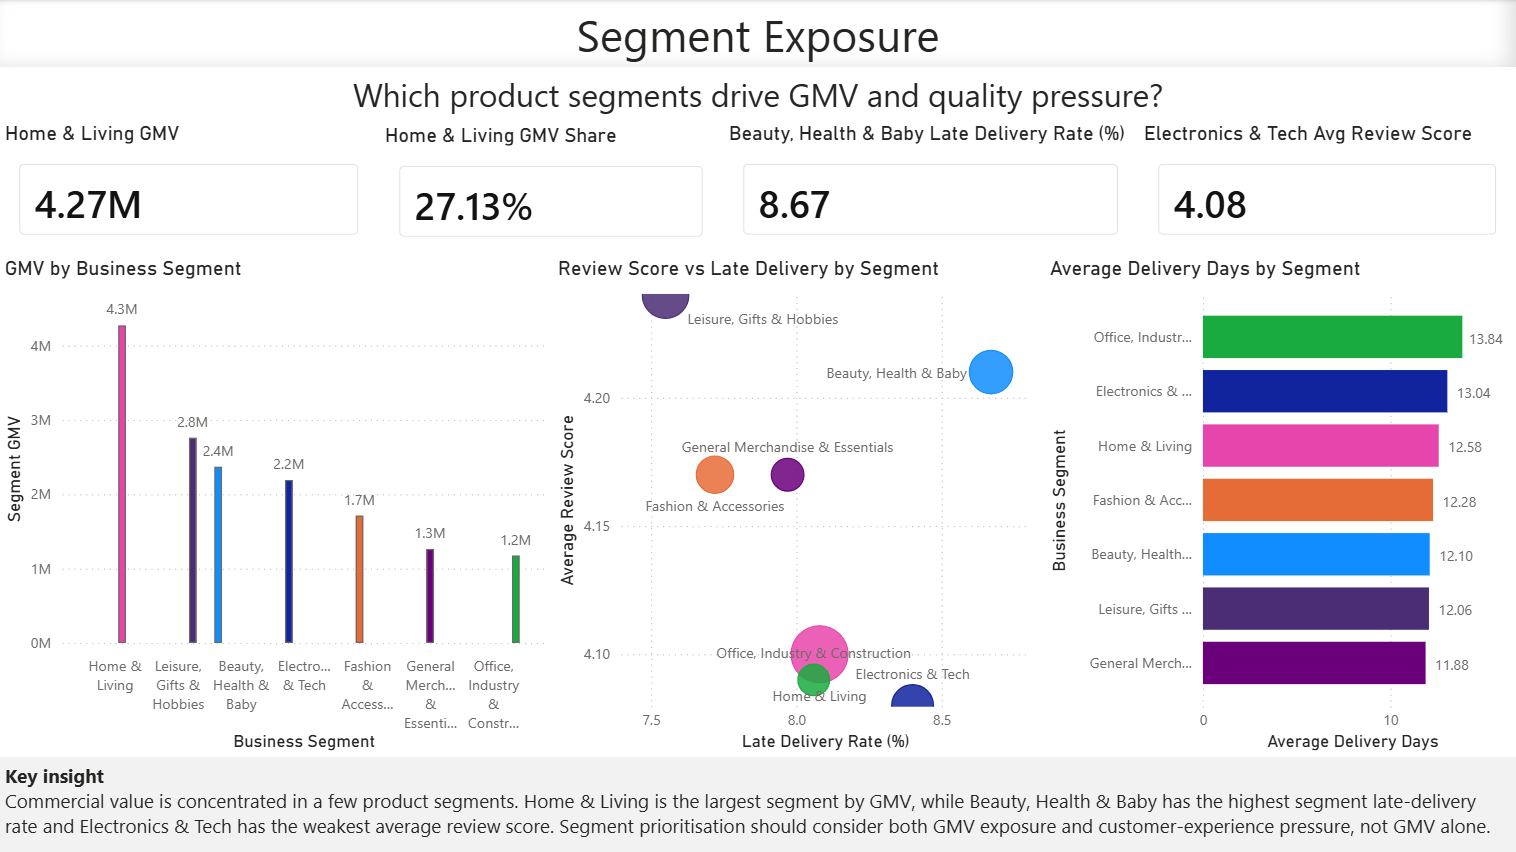

The page's visual inventory and layout, read from the dashboard file:
{"tool":"powerbi","page":{"name":"Segment Exposure","canvas":[1280,720],"ordinal":3},"visuals":[{"type":"textbox","box":[0,0,1280,65.2],"z":0},{"type":"textbox","box":[0,0,1280,65.1],"z":1000},{"type":"textbox","box":[0,57.4,1280,45.7],"z":2000},{"type":"cardVisual","title":"Home & Living GMV","fields":{"Data":["Sum(GMV by Segment.segment_gmv)"]},"box":[0,102.8,320.5,114],"z":3000},{"type":"cardVisual","title":"Home & Living GMV Share","fields":{"Data":["Sum(GMV by Segment.segment_gmv_share)"]},"box":[320.5,104.2,290.5,113.2],"z":4000},{"type":"cardVisual","title":"Beauty, Health & Baby Late Delivery Rate (%)","fields":{"Data":["Sum(Segment Review Delivery.late_delivery_rate_pct)"]},"box":[610.5,102.8,350,114],"z":5000},{"type":"cardVisual","title":"Electronics & Tech Avg Review Score","fields":{"Data":["Sum(Segment Review Delivery.avg_review_score)"]},"box":[960.5,102.8,319.5,114],"z":6000},{"type":"clusteredColumnChart","title":"GMV by Business Segment","fields":{"Category":["GMV by Segment.business_segment"],"Y":["Sum(GMV by Segment.segment_gmv)"],"Series":["Segment Review Delivery.business_segment"]},"box":[0,216.7,466,422.3],"z":7000},{"type":"textbox","box":[0,639,1280,81.1],"z":8000},{"type":"scatterChart","title":"Review Score vs Late Delivery by Segment","fields":{"X":["Sum(Segment Review Delivery.late_delivery_rate_pct)"],"Y":["Sum(Segment Review Delivery.avg_review_score)"],"Size":["Sum(Segment Review Delivery.segment_gmv)"],"Series":["Segment Review Delivery.business_segment"]},"box":[466,217,415,422],"z":9000},{"type":"barChart","title":"Average Delivery Days by Segment","fields":{"Category":["Segment Review Delivery.business_segment"],"Y":["Sum(Segment Review Delivery.avg_delivery_days)"],"Series":["Segment Review Delivery.business_segment"]},"box":[881.1,216.7,398.9,422.2],"z":10000}]}

Visuals, with their boxes in screenshot pixels (x1, y1, x2, y2), scaled from the page's 1280x720 canvas onto the 1516x852 screenshot:
textbox: 0 0 1515 77
textbox: 0 0 1515 77
textbox: 0 68 1515 122
"Home & Living GMV" cardVisual: 0 122 380 257
"Home & Living GMV Share" cardVisual: 380 123 724 257
"Beauty, Health & Baby Late Delivery Rate (%)" cardVisual: 723 122 1138 257
"Electronics & Tech Avg Review Score" cardVisual: 1138 122 1515 257
"GMV by Business Segment" clusteredColumnChart: 0 256 552 756
textbox: 0 756 1515 851
"Review Score vs Late Delivery by Segment" scatterChart: 552 257 1043 756
"Average Delivery Days by Segment" barChart: 1044 256 1515 756
